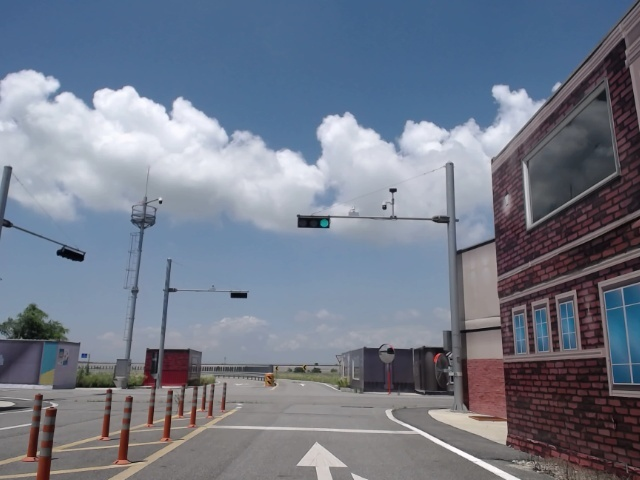green_3: (299, 217, 330, 227)
